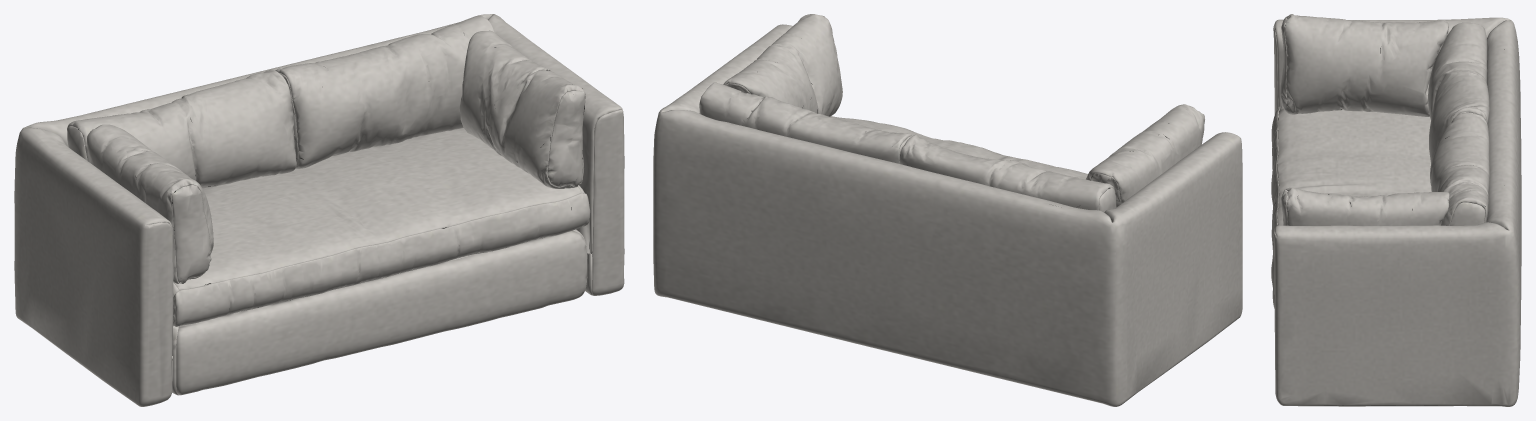
Rendered from hackney-sofa-4k-baked.glb.
The picture shows the model from 3 angles, left to right: view 1: azimuth 30°, elevation 25°; view 2: azimuth 150°, elevation 25°; view 3: azimuth 270°, elevation 25°; orthographic projection. The views are drawn at different scales.
Visible parts, largest first — view 1: hackney-sofa-4k-baked-mesh; view 2: hackney-sofa-4k-baked-mesh; view 3: hackney-sofa-4k-baked-mesh.
Boxes of the visible parts, <box> form: hackney-sofa-4k-baked-mesh: <box>14,14,624,406</box>; hackney-sofa-4k-baked-mesh: <box>653,14,1242,406</box>; hackney-sofa-4k-baked-mesh: <box>1271,14,1521,406</box>.
Size of the model in its own units: 2.04 by 0.8672 by 0.9841.
Materials: 1 (1 with a texture image).
